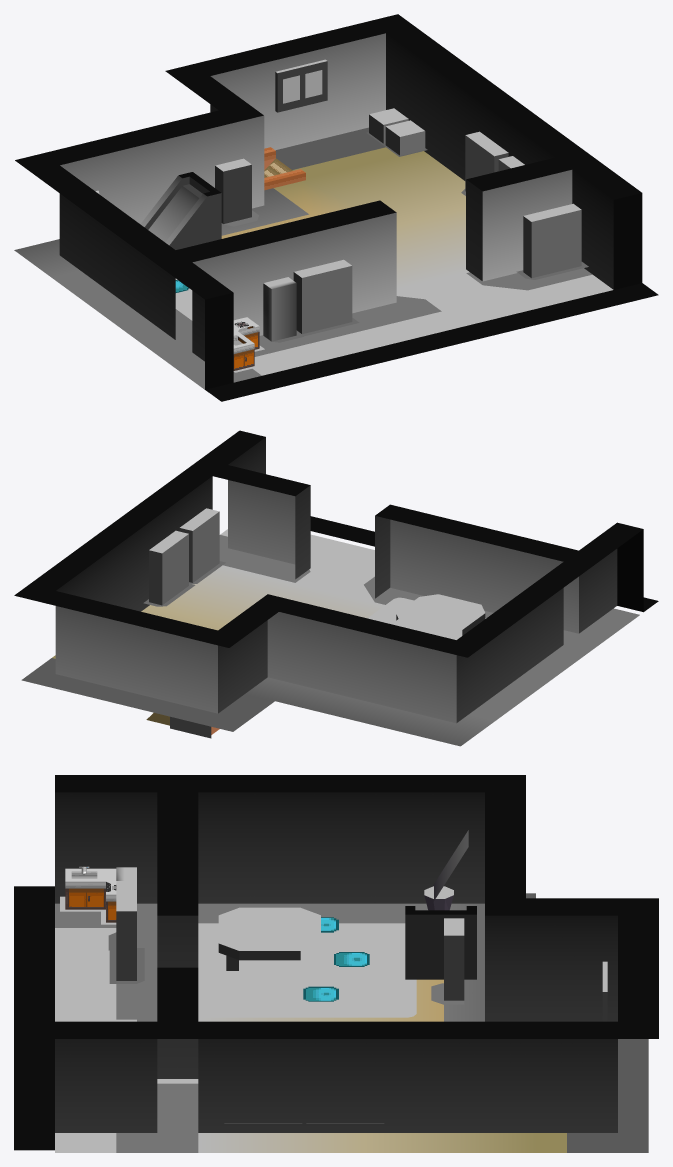
File: aspertia_building_7_mid.obj
The picture shows the model from 3 angles, top to bottom: view 1: azimuth 30°, elevation 25°; view 2: azimuth 150°, elevation 25°; view 3: azimuth 270°, elevation 25°; orthographic projection. The views are drawn at different scales.
Size of the model in its own units: 317 by 85.8 by 328.
